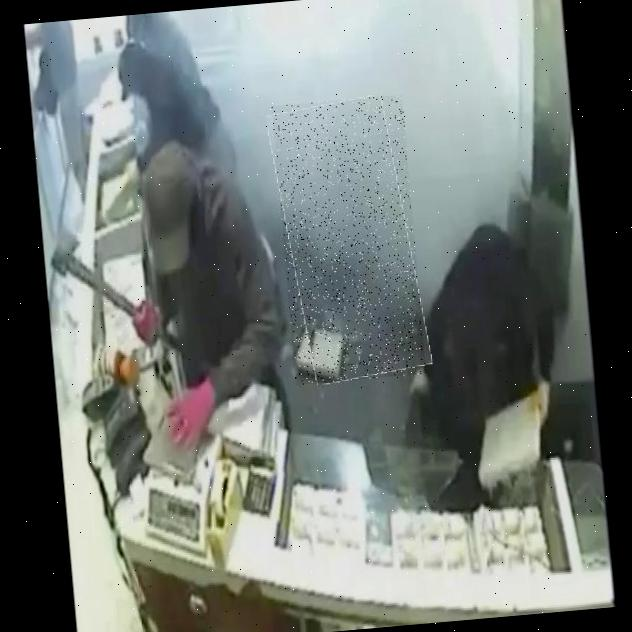smoke: (271, 95, 426, 385)
